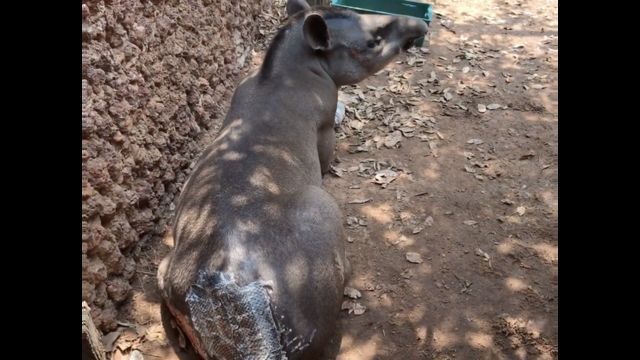Anta: (135, 2, 453, 343)
